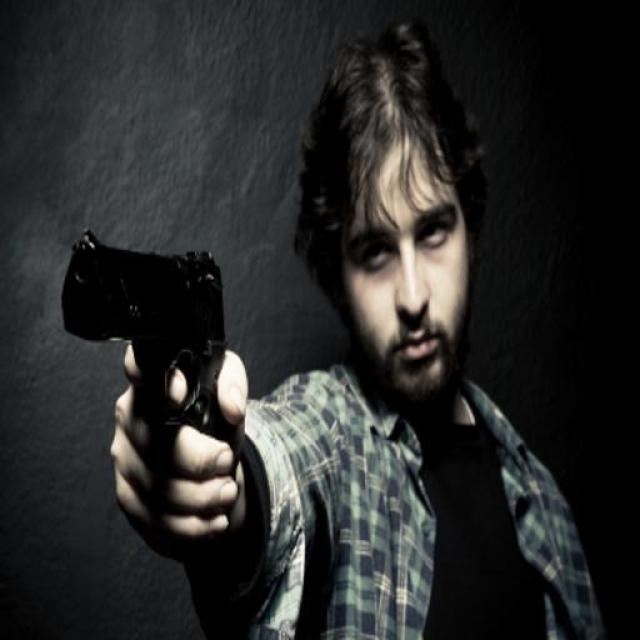pistol: (55, 224, 236, 454)
